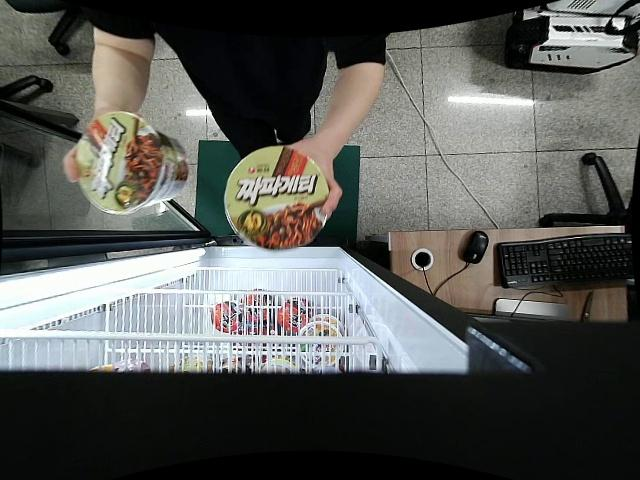00_hand: (285, 141, 344, 219), (61, 138, 93, 186)
03_chapagetti_L: (81, 111, 190, 212), (225, 147, 329, 249)
